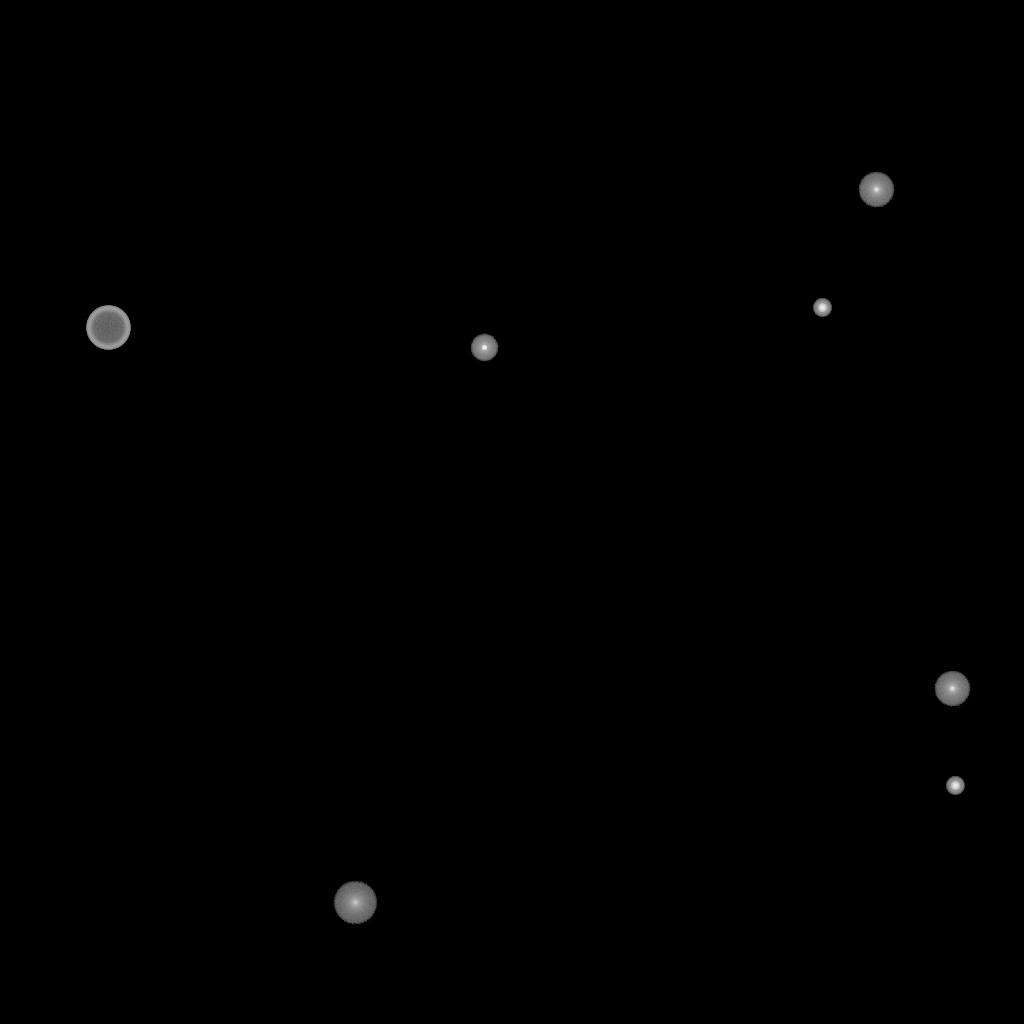depth:-10: (470, 334, 498, 362)
depth:-20: (813, 299, 831, 317), (946, 777, 964, 795)
depth:-70: (86, 306, 130, 350)
depth:0: (934, 671, 970, 707), (858, 172, 894, 208)
depth:10: (333, 881, 377, 925)
